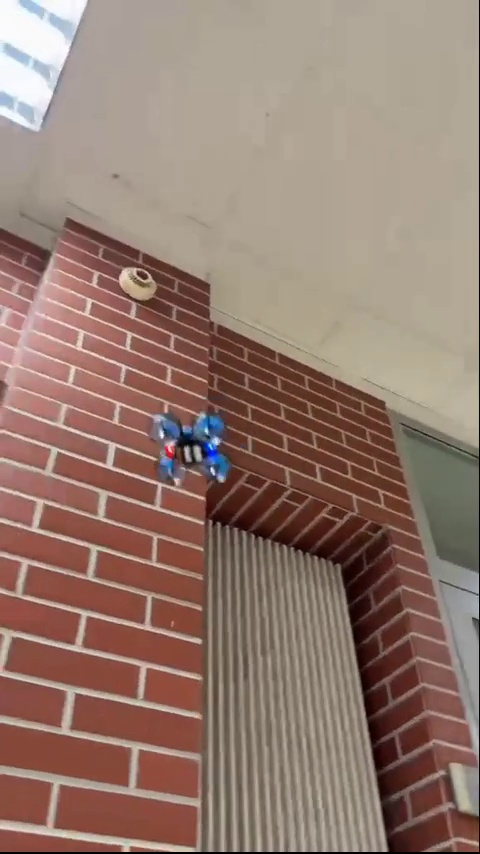drone: (148, 414, 230, 484)
